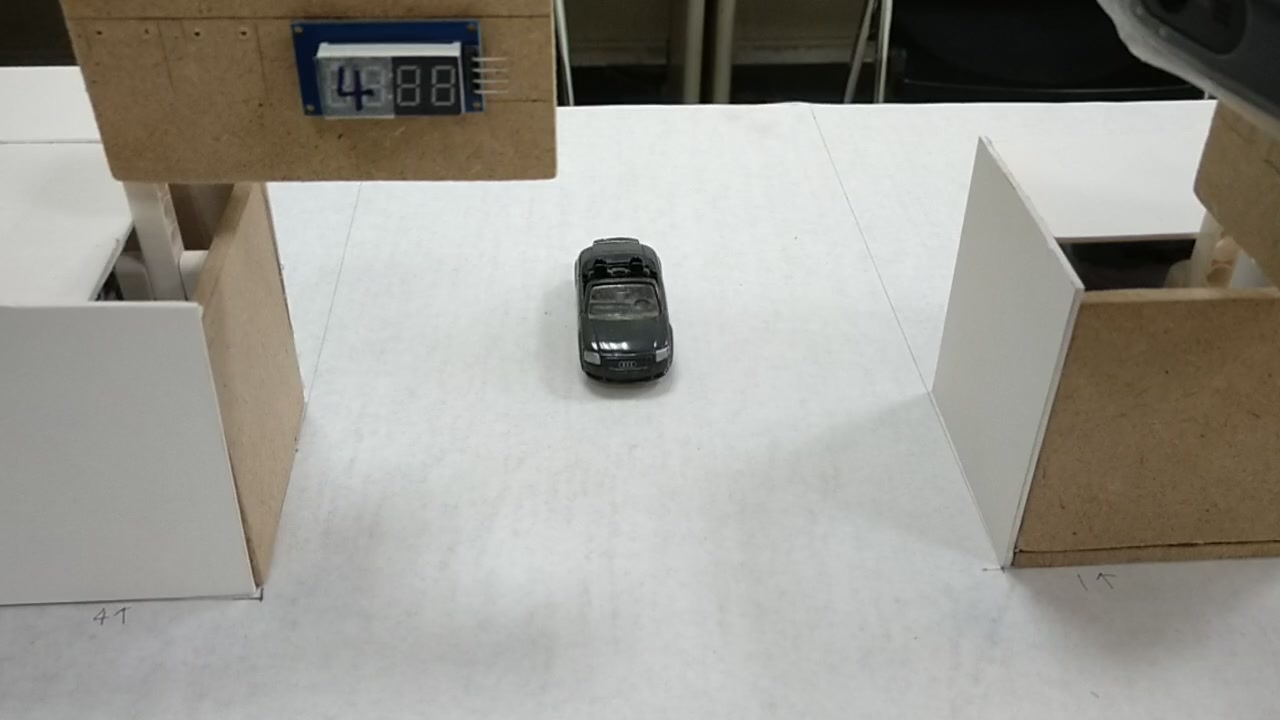car: (569, 239, 672, 378)
